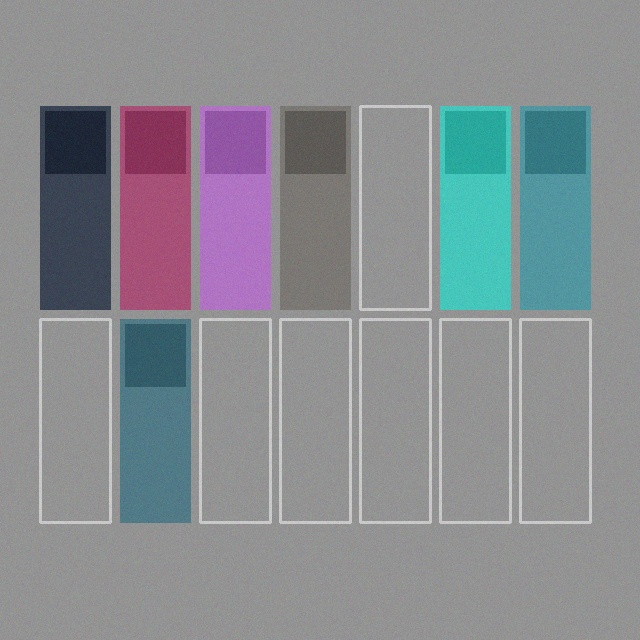space-empty: (360, 106, 430, 309), (40, 319, 110, 522), (200, 319, 270, 522), (280, 319, 350, 522), (360, 319, 430, 522), (440, 319, 510, 522), (520, 319, 590, 522)
space-occupied: (40, 106, 110, 309), (120, 106, 190, 309), (200, 106, 270, 309), (280, 106, 350, 309), (440, 106, 510, 309), (520, 106, 590, 309), (120, 319, 190, 522)
